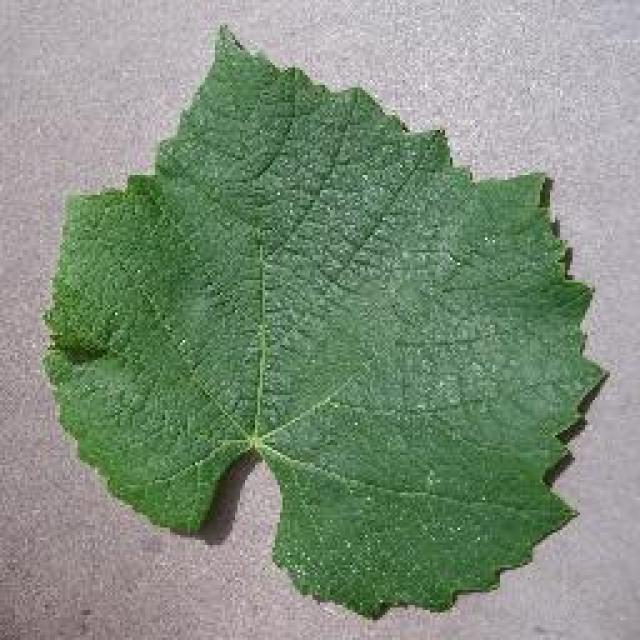Grape___healthy: (48, 30, 598, 612)
